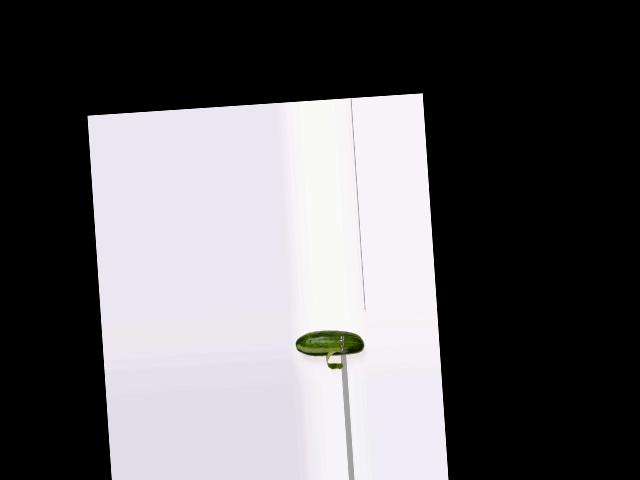cucumber: (295, 328, 365, 358)
